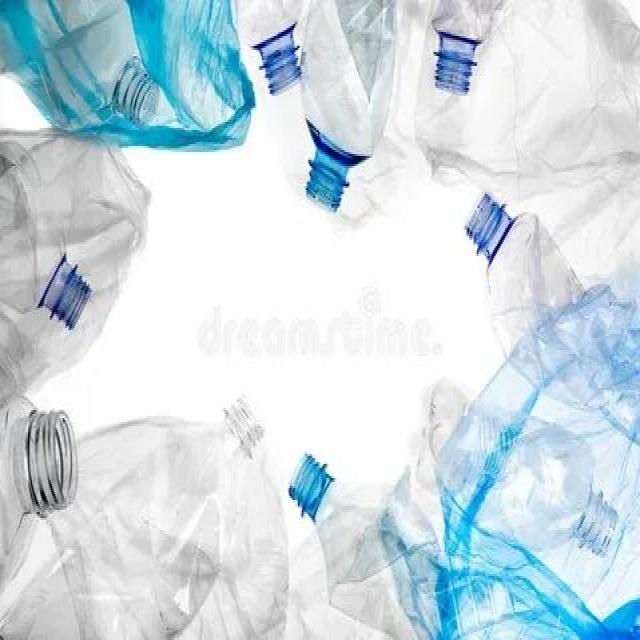blue: (288, 450, 450, 640), (303, 0, 408, 213), (0, 135, 95, 333), (464, 197, 581, 357), (229, 0, 302, 98)
